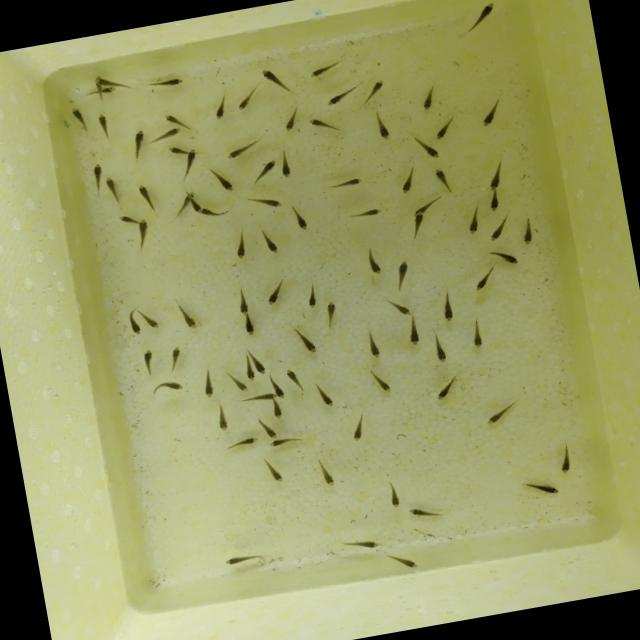fingerling: (258, 62, 290, 95), (483, 212, 514, 244), (432, 373, 466, 402), (468, 0, 502, 29), (220, 548, 266, 569), (289, 324, 319, 356), (524, 474, 562, 499), (414, 133, 444, 163), (486, 244, 520, 270), (482, 158, 508, 192), (178, 145, 202, 181), (479, 97, 509, 125), (466, 268, 498, 294), (252, 192, 288, 214), (318, 294, 341, 328), (138, 340, 159, 377), (220, 142, 255, 164), (396, 165, 420, 197), (197, 366, 220, 399), (136, 306, 163, 334), (482, 403, 516, 425), (256, 224, 280, 255), (248, 159, 280, 182), (232, 87, 260, 113), (211, 171, 239, 197), (386, 294, 414, 320), (88, 158, 107, 196), (324, 85, 358, 106), (390, 552, 422, 574), (436, 290, 456, 325), (366, 365, 390, 394), (230, 228, 252, 259), (432, 164, 454, 195), (306, 60, 340, 80), (261, 282, 287, 308), (343, 534, 380, 552), (263, 456, 285, 486), (406, 502, 439, 522), (160, 108, 190, 130), (315, 460, 337, 490), (432, 113, 456, 140), (305, 113, 337, 133), (556, 444, 576, 476), (345, 205, 384, 221), (310, 381, 333, 408), (518, 216, 538, 247), (122, 309, 142, 340), (362, 248, 384, 276), (346, 416, 368, 444), (130, 126, 148, 160), (151, 376, 183, 395), (392, 256, 412, 286), (464, 208, 484, 238), (374, 111, 392, 144), (484, 186, 505, 214), (404, 321, 424, 350), (291, 206, 311, 235), (363, 328, 381, 360), (212, 396, 230, 428), (103, 171, 121, 203), (362, 77, 387, 100), (280, 106, 302, 132), (258, 416, 280, 442), (130, 216, 152, 242), (68, 103, 90, 129), (234, 286, 253, 316), (240, 390, 278, 405), (178, 307, 199, 334), (416, 86, 437, 113), (136, 184, 156, 212), (301, 280, 321, 308), (468, 319, 486, 350), (408, 210, 429, 236), (150, 126, 182, 143), (150, 74, 184, 90), (164, 342, 184, 369), (430, 336, 449, 364), (266, 433, 301, 448), (282, 366, 303, 391), (194, 203, 224, 220), (276, 153, 294, 181), (93, 75, 122, 92), (386, 482, 404, 509), (227, 374, 251, 394), (230, 435, 260, 451), (212, 97, 230, 123), (329, 176, 365, 189), (266, 399, 286, 422), (411, 199, 436, 217), (240, 314, 258, 338), (242, 356, 257, 384), (163, 142, 189, 158), (114, 212, 138, 228), (95, 112, 110, 137), (252, 353, 266, 378), (272, 376, 284, 399), (99, 86, 115, 95)
